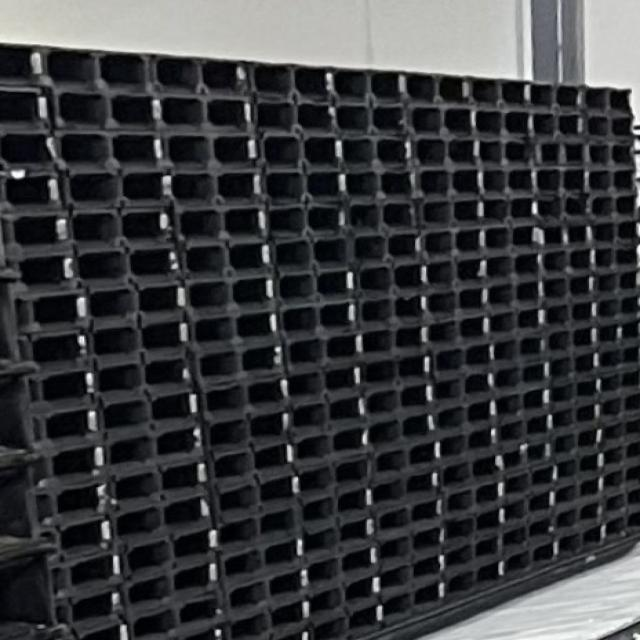igps: (28, 40, 153, 93), (114, 558, 224, 614), (118, 523, 223, 580), (124, 587, 232, 640), (46, 86, 152, 138), (108, 491, 216, 542), (92, 389, 202, 437), (43, 128, 167, 170), (105, 458, 211, 507), (101, 424, 207, 472), (26, 516, 118, 569), (197, 370, 292, 420), (220, 562, 313, 613), (218, 532, 306, 585), (205, 439, 298, 489), (83, 320, 193, 362), (64, 207, 179, 246), (207, 471, 302, 518), (223, 591, 314, 640), (31, 478, 112, 532), (150, 52, 249, 96), (70, 247, 186, 284), (213, 502, 297, 553), (148, 93, 254, 133), (202, 407, 294, 453), (246, 58, 338, 104), (44, 546, 125, 598), (187, 342, 285, 384), (89, 361, 198, 398), (51, 583, 130, 634), (26, 443, 109, 491), (167, 168, 266, 208), (306, 571, 383, 622), (82, 286, 191, 322), (15, 403, 104, 447), (185, 309, 280, 350), (159, 132, 261, 170), (381, 576, 449, 632), (0, 206, 82, 252), (178, 241, 276, 279), (296, 452, 376, 498), (170, 205, 271, 241), (182, 276, 277, 314), (288, 392, 369, 436), (290, 423, 372, 466), (442, 555, 509, 607), (284, 361, 363, 405), (299, 483, 376, 528), (299, 515, 376, 560), (254, 132, 345, 170), (304, 544, 379, 590), (370, 436, 445, 482), (369, 464, 444, 510), (372, 492, 450, 536), (374, 521, 448, 567), (60, 172, 163, 205), (126, 609, 235, 640), (259, 171, 352, 207), (250, 98, 340, 135), (14, 290, 96, 330), (307, 599, 386, 640), (283, 330, 366, 369), (379, 550, 449, 596), (329, 65, 408, 105), (4, 251, 80, 292), (278, 300, 360, 338), (274, 268, 358, 305), (14, 331, 96, 368), (264, 205, 350, 240), (366, 410, 439, 451), (26, 369, 103, 407), (434, 450, 506, 490), (463, 73, 538, 111), (364, 381, 437, 420), (442, 503, 508, 546), (440, 477, 508, 518), (340, 134, 417, 170), (500, 539, 560, 585), (502, 484, 557, 534), (441, 531, 506, 573), (0, 168, 62, 212), (347, 232, 427, 266), (268, 239, 352, 271), (432, 395, 500, 434), (342, 203, 422, 236), (437, 422, 501, 463), (423, 310, 492, 348), (500, 514, 559, 558), (351, 264, 432, 296), (404, 68, 474, 105), (500, 458, 560, 501), (429, 369, 498, 406), (231, 610, 316, 640), (333, 105, 415, 136), (354, 293, 431, 325), (409, 136, 483, 169), (358, 323, 434, 354), (423, 285, 492, 319), (342, 171, 420, 201), (494, 411, 554, 450), (0, 85, 53, 129), (66, 605, 132, 640), (431, 340, 497, 375), (499, 436, 554, 478), (415, 199, 487, 231), (555, 522, 609, 564), (474, 105, 536, 141), (360, 354, 434, 384), (422, 257, 489, 290), (408, 105, 478, 136), (414, 169, 486, 199), (484, 250, 546, 284), (491, 360, 553, 394), (527, 76, 585, 112), (419, 229, 488, 259), (482, 222, 542, 256), (493, 386, 553, 420), (484, 278, 547, 310), (548, 425, 605, 460), (477, 136, 539, 168), (486, 306, 548, 338), (552, 498, 604, 535), (546, 375, 602, 409), (581, 81, 637, 115), (481, 195, 542, 226), (552, 473, 606, 508), (540, 299, 600, 330), (491, 334, 548, 366), (554, 449, 606, 484), (544, 324, 602, 355), (546, 350, 603, 381), (536, 220, 594, 250), (533, 138, 592, 167), (0, 130, 45, 168), (550, 401, 603, 433), (540, 247, 598, 276), (535, 192, 590, 222), (530, 110, 586, 138), (541, 274, 597, 302), (603, 507, 640, 548), (534, 166, 592, 192), (585, 139, 638, 167), (0, 40, 32, 86), (586, 167, 640, 194), (583, 114, 639, 140), (599, 484, 640, 518), (596, 342, 640, 372), (600, 437, 640, 470), (597, 391, 640, 421), (589, 219, 640, 244), (591, 294, 640, 320), (598, 415, 640, 445), (590, 271, 640, 296), (588, 194, 640, 218), (592, 244, 640, 270), (601, 461, 640, 493), (597, 368, 640, 395), (594, 320, 640, 344)
